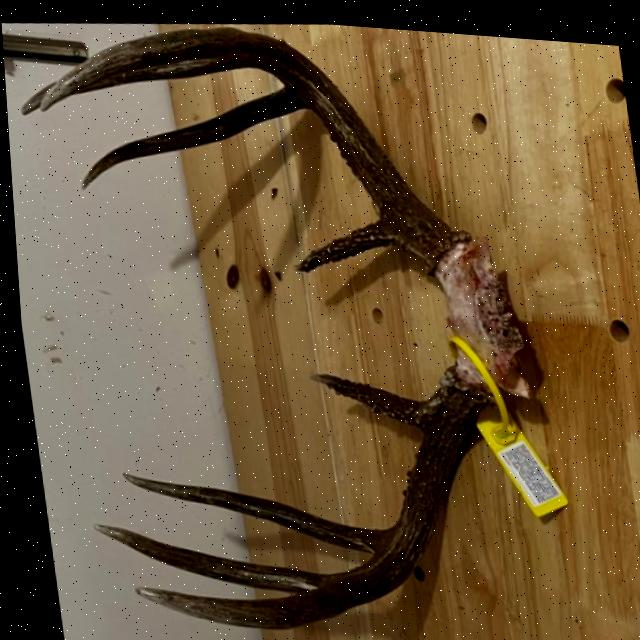L-F: (38, 21, 468, 269)
L-G1: (287, 210, 393, 268)
L-G2: (78, 78, 307, 189)
R-F: (125, 357, 492, 625)
R-G1: (305, 366, 423, 424)
R-G2: (114, 470, 382, 547)
R-G3: (86, 522, 317, 588)
